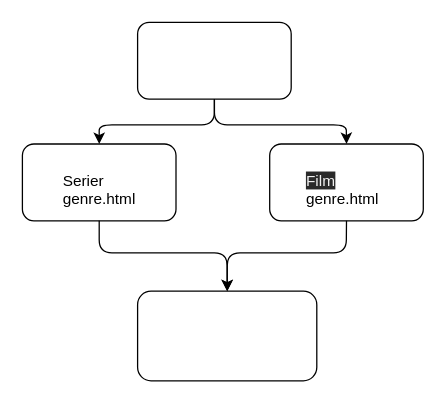
Some shapes in this 447 by 403 pixel diagram are drawn without their labels. The box of each missing label's shape, as (x1, y1, x2, y2) in pixels:
Elementpage: (136, 290, 317, 381)
Forside Index.html: (136, 21, 291, 99)
